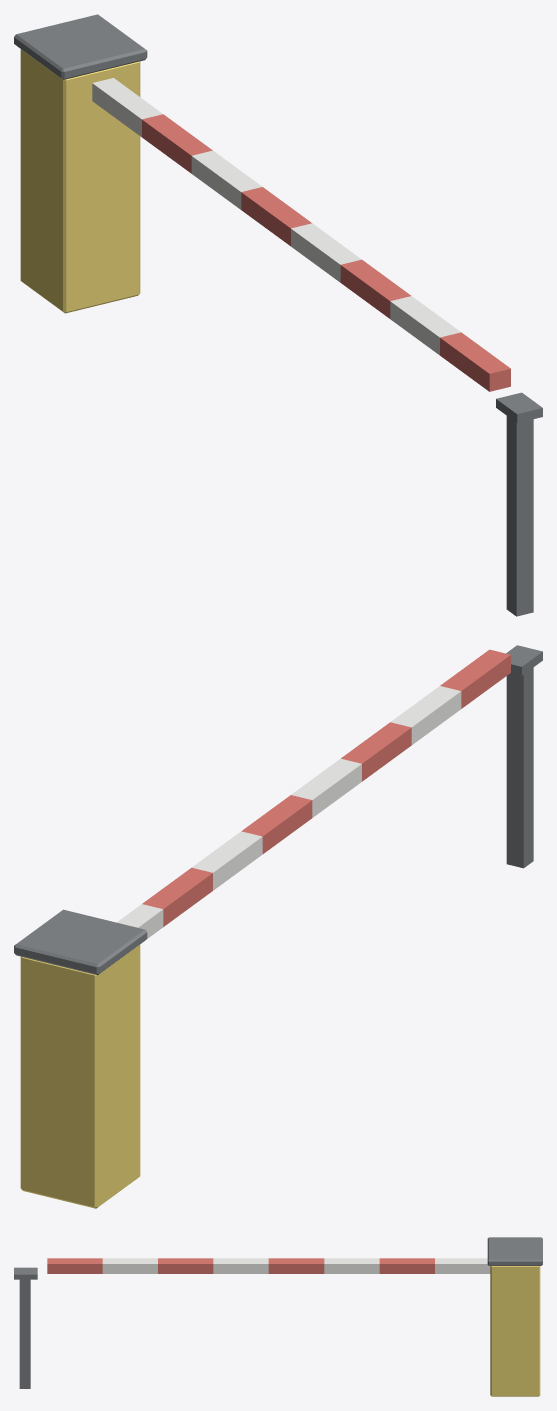
The model's file is barrier.glb.
3 views of the same model, one above another, from view 1: azimuth 30°, elevation 25°; view 2: azimuth 150°, elevation 25°; view 3: azimuth 270°, elevation 25° (orthographic). The views are drawn at different scales.
Visible parts, largest first — view 1: barrier_paint_y, barrier_steel_d, barrier_paint_r, barrier_paint_w; view 2: barrier_paint_y, barrier_steel_d, barrier_paint_r, barrier_paint_w; view 3: barrier_paint_y, barrier_paint_r, barrier_paint_w, barrier_steel_d.
Part boxes in pixels (left/top/right/bottom): barrier_paint_y: left=20, top=49, right=140, bottom=313; barrier_steel_d: left=14, top=14, right=542, bottom=616; barrier_paint_r: left=142, top=114, right=510, bottom=391; barrier_paint_w: left=92, top=78, right=460, bottom=355; barrier_paint_y: left=20, top=944, right=140, bottom=1208; barrier_steel_d: left=14, top=645, right=542, bottom=975; barrier_paint_r: left=142, top=649, right=510, bottom=926; barrier_paint_w: left=117, top=686, right=461, bottom=938; barrier_paint_y: left=490, top=1266, right=540, bottom=1396; barrier_paint_r: left=47, top=1258, right=434, bottom=1273; barrier_paint_w: left=102, top=1258, right=490, bottom=1273; barrier_steel_d: left=14, top=1237, right=542, bottom=1388.
Bounding box in the file's own units: 0.4 × 1.1 × 3.82.
